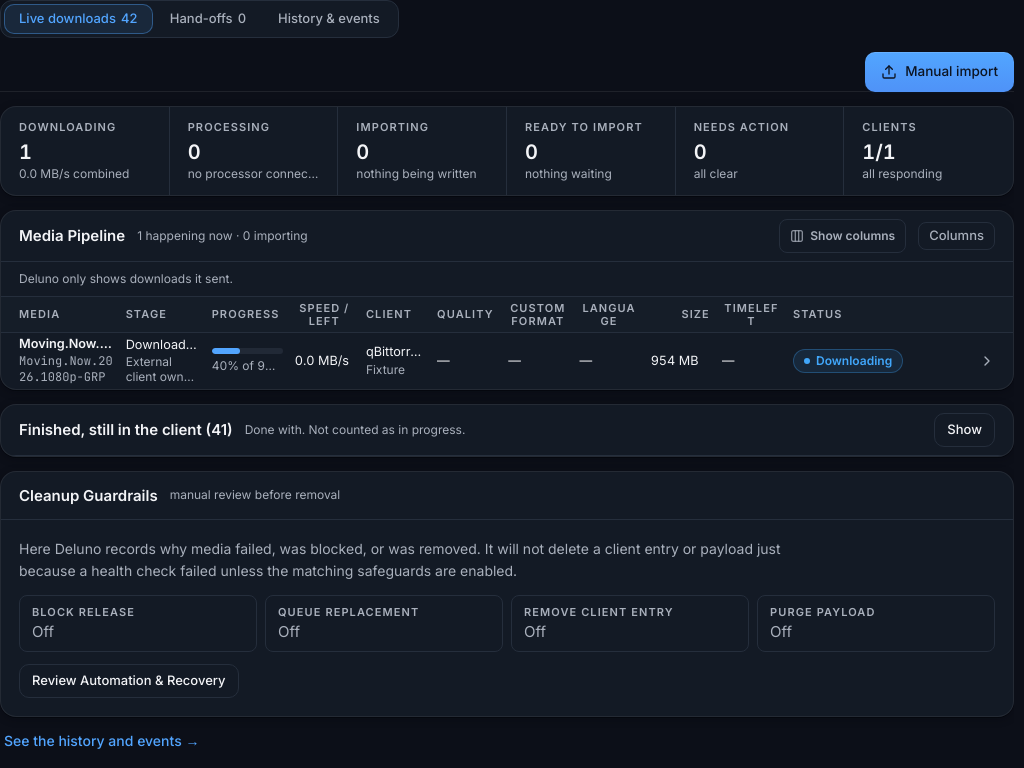
Test: In progress: what is happening now (#1448) › the finished ones are folded in their own group with their count, and open to say what Deluno will do
The image size is (1024, 768).
Expected: the heading "Finished, still in the client (41)" is shown, [19, 422, 233, 437]
Expected: the text "Seeding.0.2026.1080p-GRP" is not shown
Click the button with aria-label "Show finished downloads": (965, 430) [934, 412, 995, 446]
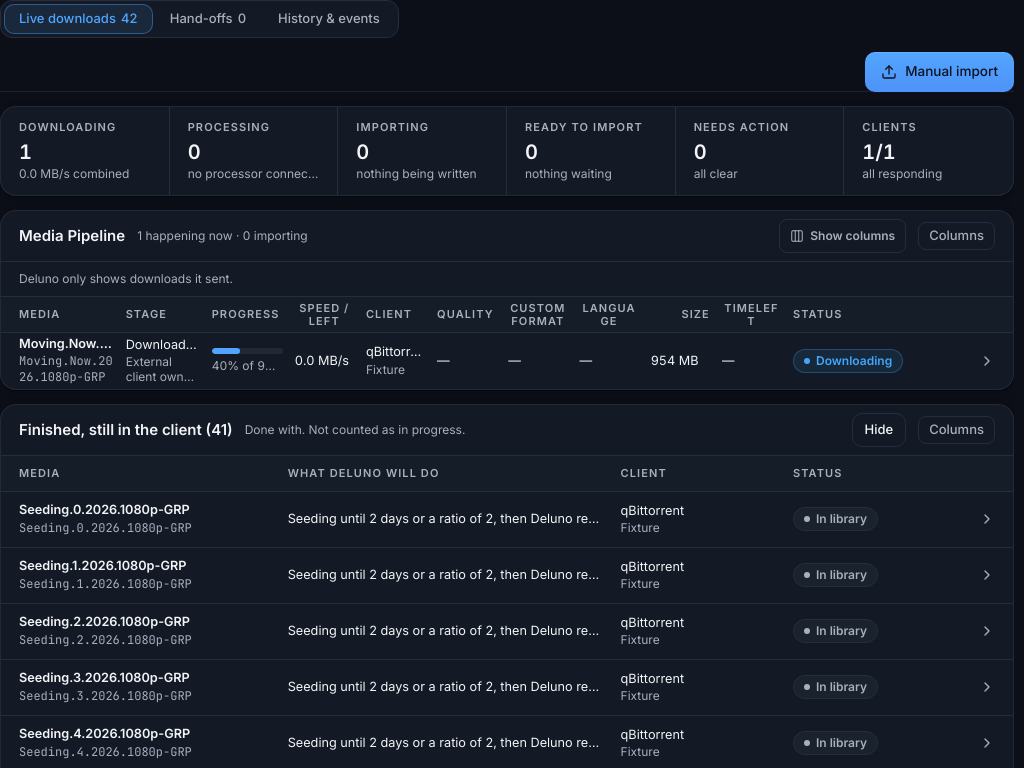
Expected: the button with aria-label "Hide finished downloads" is expanded, [852, 412, 906, 446]
Expected: the text "Seeding.0.2026.1080p-GRP" shows "Seeding until 2 days or a ratio of 2, then Deluno removes it from the client.", [288, 511, 732, 526]
Expected: the text "In library" is shown, [793, 507, 878, 531]
